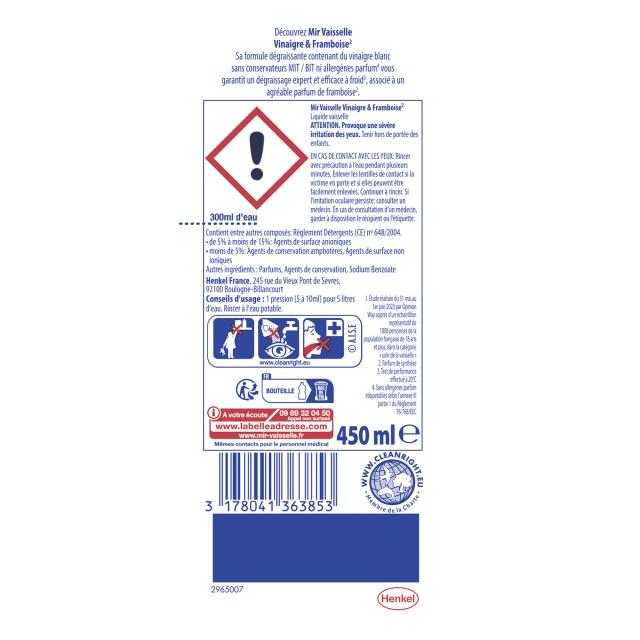GHS_Symbol_EXCLAMATION_MARK: (206, 109, 308, 208)
